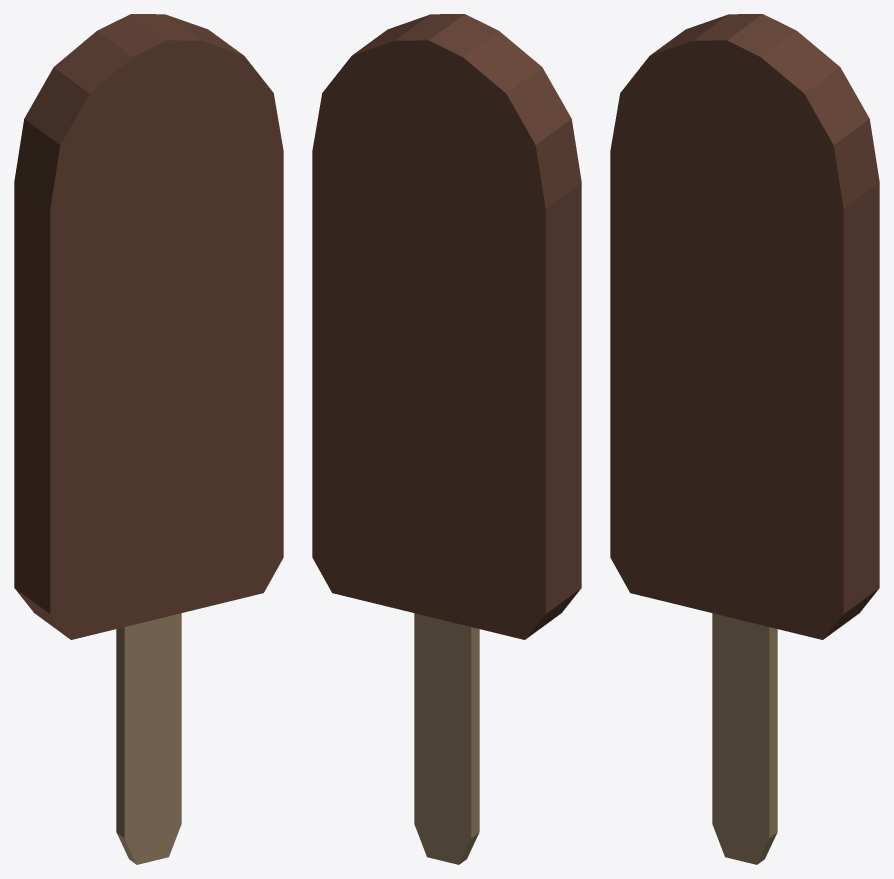
File: Popsicle_Chocolate.glb
3 views of the same model, side by side, from view 1: azimuth 30°, elevation 25°; view 2: azimuth 150°, elevation 25°; view 3: azimuth 330°, elevation 25° (orthographic).
Visible parts, largest first — view 1: Popsicle_Chocolate; view 2: Popsicle_Chocolate; view 3: Popsicle_Chocolate.
Part boxes in pixels (box(x1,y1,x2,y2)): Popsicle_Chocolate: box(14, 14, 283, 864); Popsicle_Chocolate: box(312, 14, 581, 864); Popsicle_Chocolate: box(610, 14, 879, 864).
Bounding box in the file's own units: 0.032 × 0.1089 × 0.00878.
